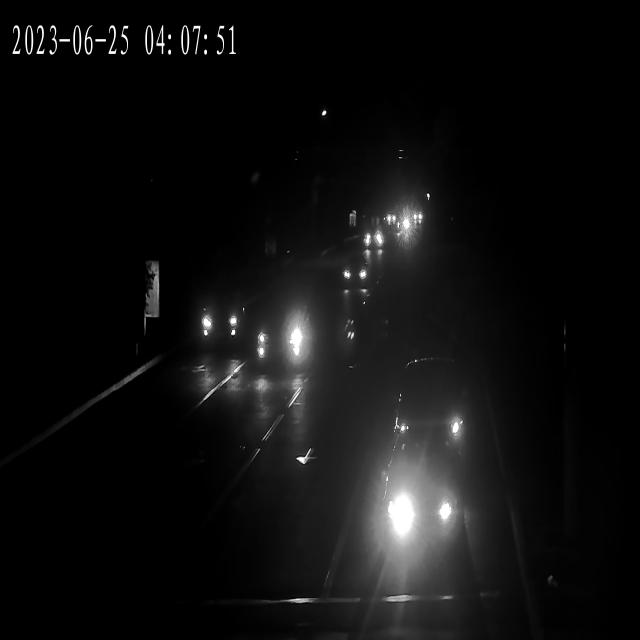Car: (379, 358, 478, 455), (372, 462, 458, 546), (254, 307, 312, 371), (195, 292, 245, 344), (334, 257, 368, 291), (357, 229, 383, 253), (392, 215, 416, 233)
